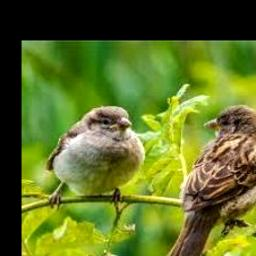Sparrow: (161, 104, 256, 256), (44, 106, 145, 209)
